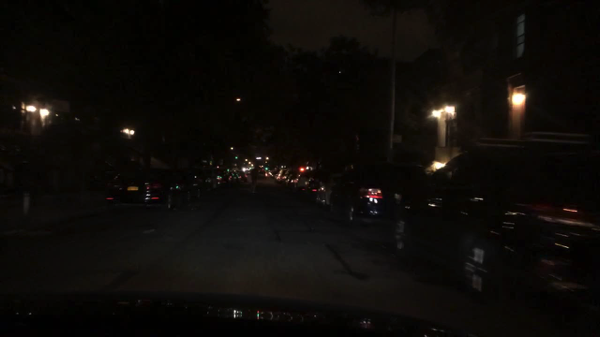car: (388, 132, 599, 310), (104, 166, 191, 216), (326, 175, 411, 226), (184, 166, 219, 198), (314, 177, 344, 207), (292, 168, 313, 193), (302, 170, 321, 196), (214, 169, 234, 187), (284, 168, 300, 190), (228, 170, 242, 183), (275, 169, 286, 184), (236, 170, 248, 183), (269, 170, 279, 178), (258, 170, 268, 178), (245, 169, 252, 176)
person: (250, 167, 258, 195)
traffic light: (264, 167, 269, 171)
traffic sign: (391, 134, 402, 145)
